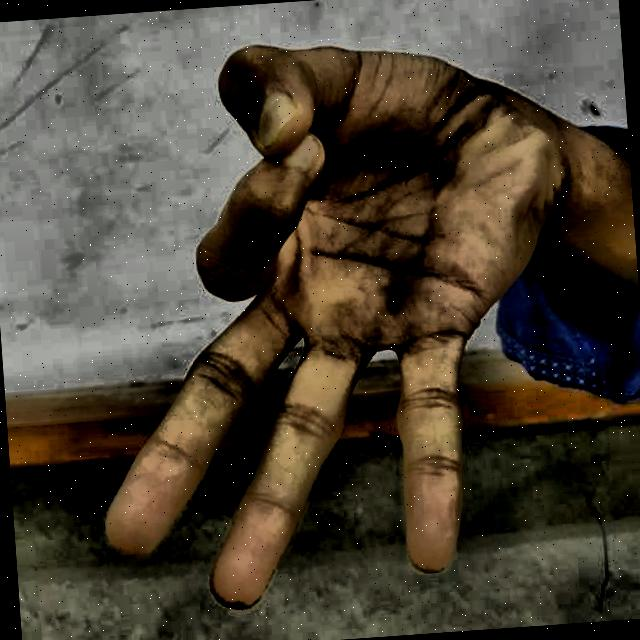Fa: (39, 5, 610, 640)
